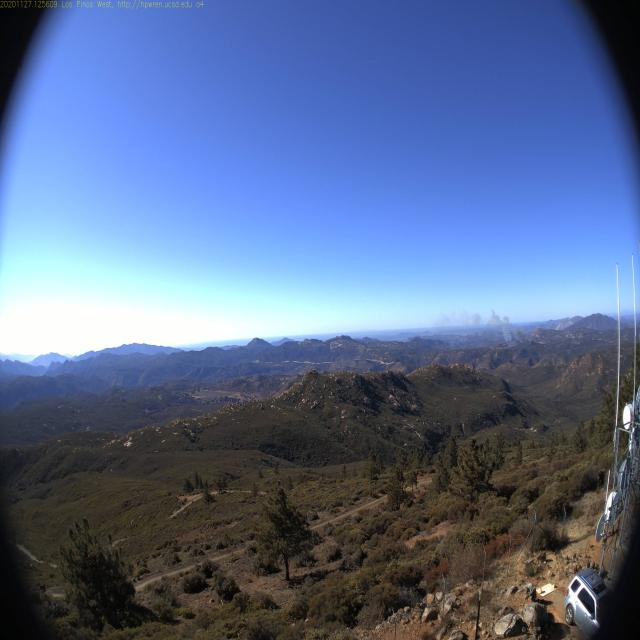smoke: (438, 309, 493, 339), (493, 314, 512, 342), (512, 324, 534, 344)
